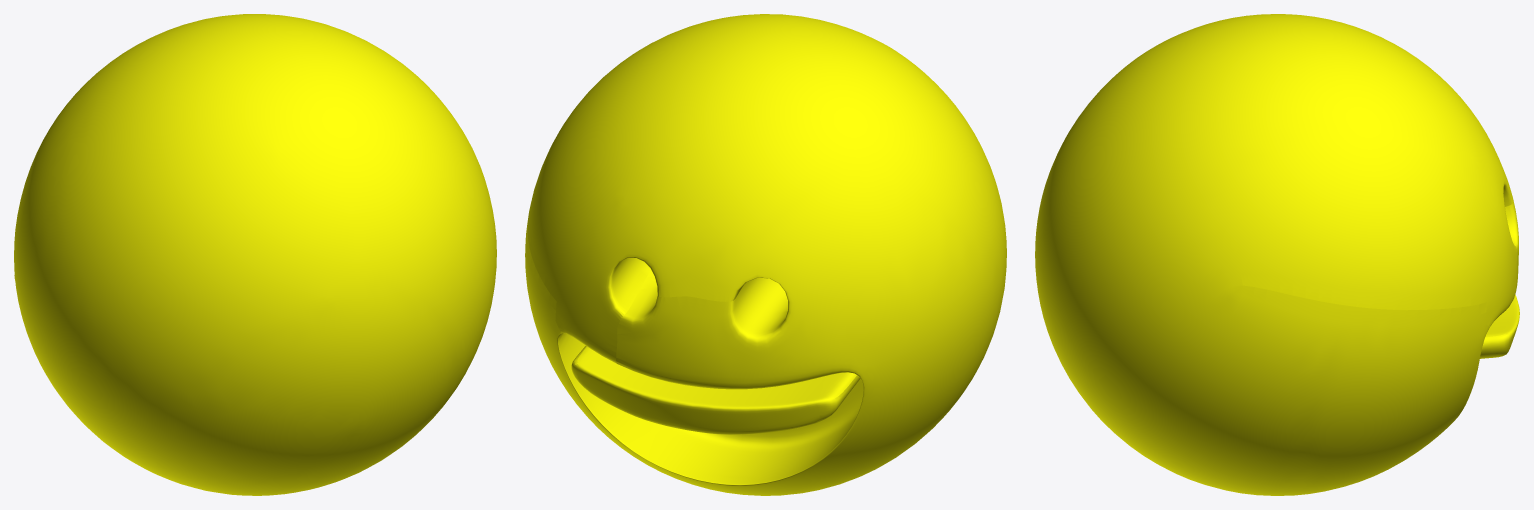
Rendered from happy 3DS.glb.
The picture shows the model from 3 angles, left to right: view 1: azimuth 30°, elevation 25°; view 2: azimuth 150°, elevation 25°; view 3: azimuth 270°, elevation 25°; orthographic projection.
Visible parts, largest first — view 1: Group13146; view 2: Group13146, Group47597; view 3: Group13146, Group47597.
Boxes of the visible parts, <box> form: Group13146: <box>14,14,496,495</box>; Group13146: <box>525,14,1006,495</box>; Group47597: <box>571,346,860,434</box>; Group13146: <box>1035,14,1518,495</box>; Group47597: <box>1480,294,1519,358</box>.
Size of the model in its own units: 0.5496 by 0.5489 by 0.5521.
Materials: 2 (2 with a texture image).
